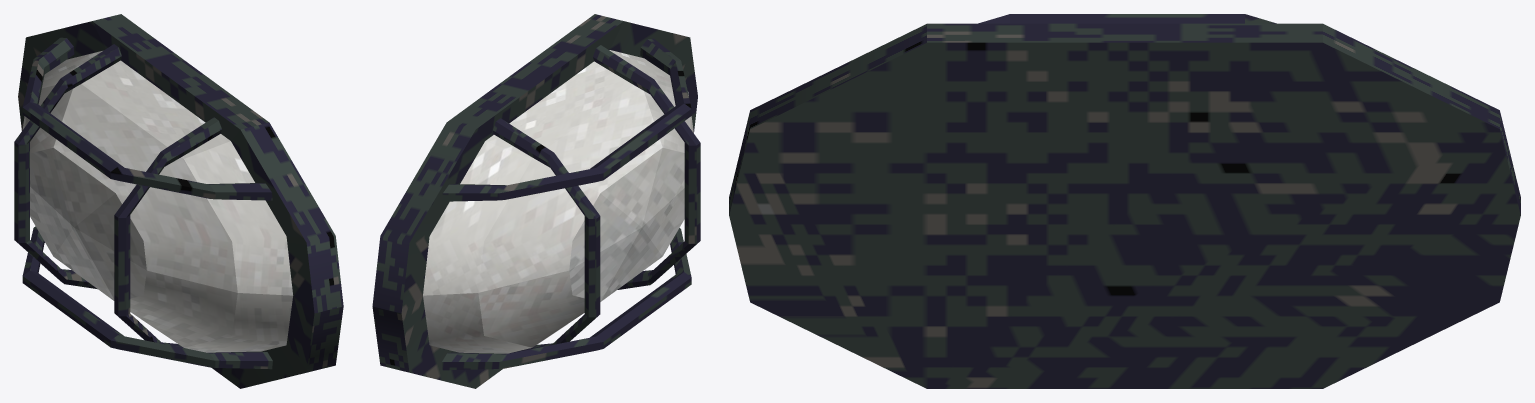
Rendered from Lamp horizontal.fbx.
3 renders of one model, left to right at view 1: azimuth 30°, elevation 25°; view 2: azimuth 150°, elevation 25°; view 3: azimuth 270°, elevation 25°, orthographic. The views are drawn at different scales.
Parts seen in each view (by area): view 1: Sphere; view 2: Sphere; view 3: Sphere.
Boxes of the visible parts, x1,y1,x2,y2 form: Sphere: (14, 14, 343, 388); Sphere: (372, 14, 700, 388); Sphere: (729, 14, 1520, 388).
Size of the model in its own units: 5.21 by 10.06 by 20.85.
2 materials, 2 textured.
